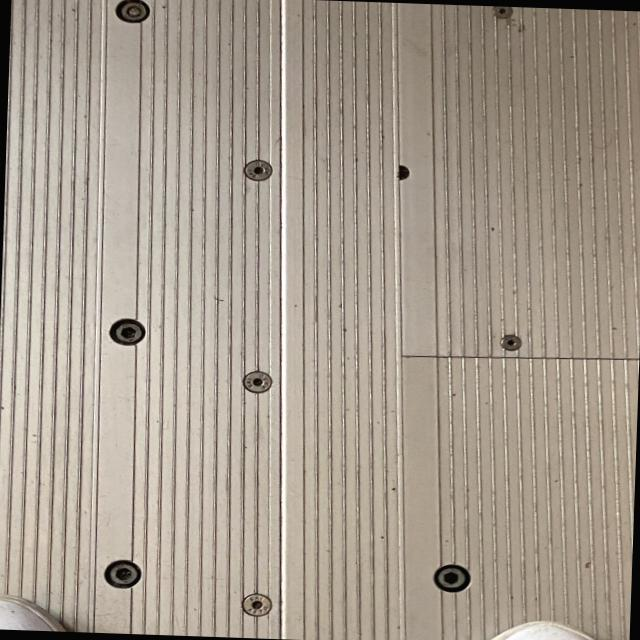Hex Socket Allen: (110, 564, 138, 584), (437, 568, 465, 588), (116, 322, 142, 342), (120, 2, 146, 20), (500, 334, 522, 350), (492, 5, 513, 18)
